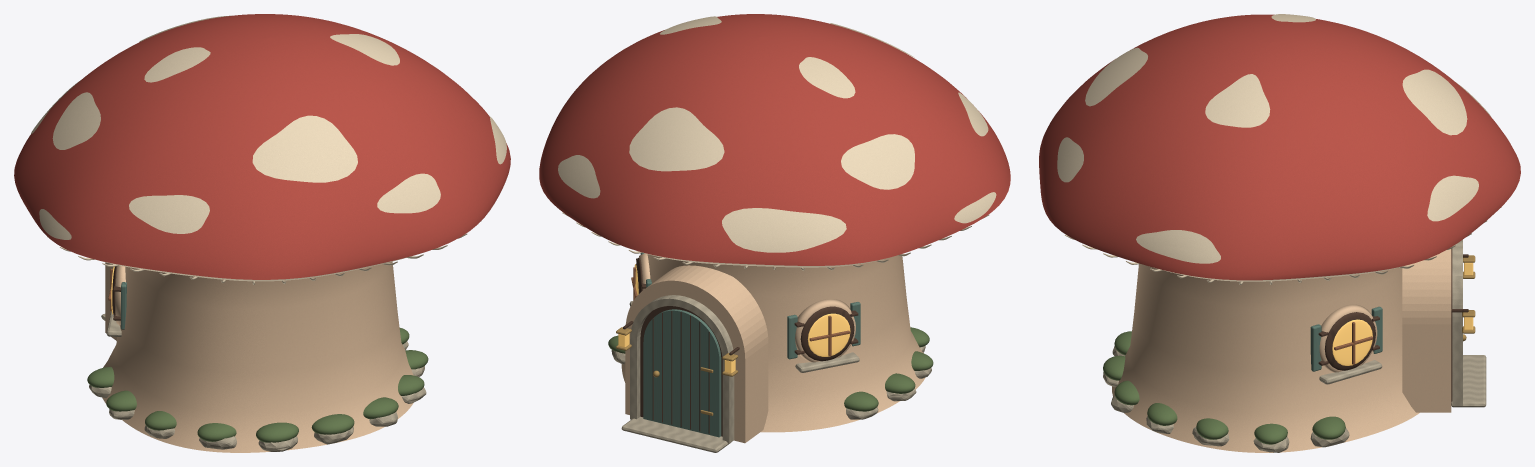
File: mushroom.glb
3 views of the same model, side by side, from view 1: azimuth 30°, elevation 25°; view 2: azimuth 150°, elevation 25°; view 3: azimuth 270°, elevation 25° (orthographic). The views are drawn at different scales.
Visible parts, largest first — view 1: canopy / Rosehip mushroom roof, stem / Warm mineral plaster, canopy / Ivory mushroom gills, garden / Sage moss, garden / Warm limestone; view 2: canopy / Rosehip mushroom roof, stem / Warm mineral plaster, canopy / Ivory mushroom gills, entry / Warm mineral plaster, entry / Sage painted shutters, entry / Warm limestone, entry / Walnut joinery, garden / Sage moss, stem / Honey window glass, stem / Walnut joinery, garden / Warm limestone, stem / Sage painted shutters (+2 smaller); view 3: canopy / Rosehip mushroom roof, stem / Warm mineral plaster, canopy / Ivory mushroom gills, entry / Warm mineral plaster, garden / Sage moss, entry / Warm limestone, garden / Warm limestone, stem / Honey window glass, stem / Walnut joinery, stem / Sage painted shutters, stem / Warm limestone.
Boxes of the visible parts, bbox=[...] form: canopy / Rosehip mushroom roof: bbox=[14, 14, 510, 279]; stem / Warm mineral plaster: bbox=[102, 261, 413, 452]; canopy / Ivory mushroom gills: bbox=[31, 15, 506, 284]; garden / Sage moss: bbox=[87, 328, 428, 442]; garden / Warm limestone: bbox=[89, 341, 426, 451]; canopy / Rosehip mushroom roof: bbox=[539, 14, 1010, 265]; stem / Warm mineral plaster: bbox=[621, 253, 925, 432]; canopy / Ivory mushroom gills: bbox=[558, 16, 996, 270]; entry / Warm mineral plaster: bbox=[625, 265, 768, 443]; entry / Sage painted shutters: bbox=[643, 309, 721, 437]; entry / Warm limestone: bbox=[621, 295, 734, 452]; entry / Walnut joinery: bbox=[623, 306, 739, 436]; garden / Sage moss: bbox=[608, 327, 933, 411]; stem / Honey window glass: bbox=[634, 264, 850, 356]; stem / Walnut joinery: bbox=[636, 258, 858, 361]; garden / Warm limestone: bbox=[611, 345, 931, 419]; stem / Sage painted shutters: bbox=[640, 253, 860, 359]; canopy / Rosehip mushroom roof: bbox=[1039, 14, 1520, 280]; stem / Warm mineral plaster: bbox=[1112, 264, 1419, 452]; canopy / Ivory mushroom gills: bbox=[1057, 14, 1501, 284]; entry / Warm mineral plaster: bbox=[1402, 249, 1451, 412]; garden / Sage moss: bbox=[1103, 331, 1345, 444]; entry / Warm limestone: bbox=[1451, 239, 1486, 407]; garden / Warm limestone: bbox=[1103, 346, 1349, 452]; stem / Honey window glass: bbox=[1332, 319, 1372, 365]; stem / Walnut joinery: bbox=[1318, 312, 1379, 370]; stem / Sage painted shutters: bbox=[1310, 306, 1382, 371]; stem / Warm limestone: bbox=[1319, 360, 1382, 384].
Size of the model in its own units: 14.27 by 10.75 by 13.56.
10 materials, 8 textured.
